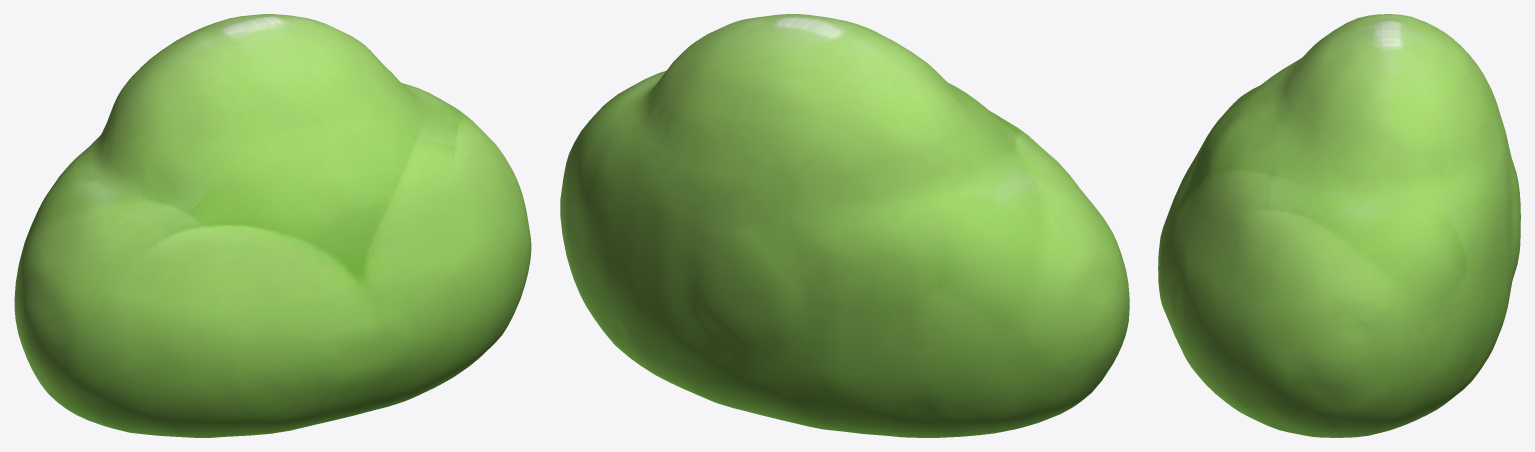
The model's file is bush.glb.
The picture shows the model from 3 angles, left to right: view 1: azimuth 30°, elevation 25°; view 2: azimuth 150°, elevation 25°; view 3: azimuth 270°, elevation 25°; orthographic projection. The views are drawn at different scales.
Visible parts, largest first — view 1: prop; view 2: prop; view 3: prop.
Part boxes in pixels (bbox=[...]): prop: bbox=[14, 14, 531, 437]; prop: bbox=[560, 14, 1129, 437]; prop: bbox=[1158, 14, 1520, 437].
Bounding box in the file's own units: 1.41 × 0.9594 × 0.9352.
Materials: 1 (1 with a texture image).
